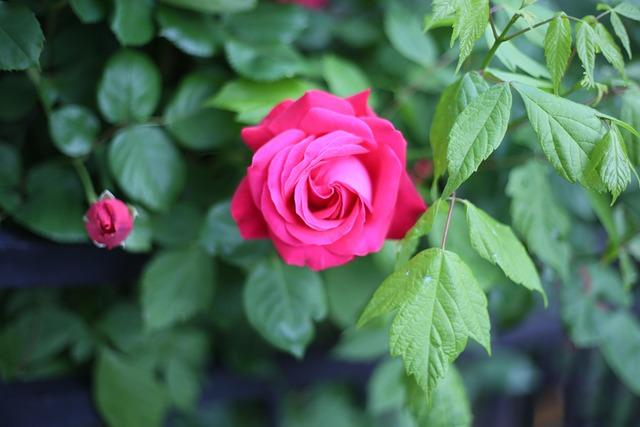Non_Gorille: (60, 8, 550, 422)
